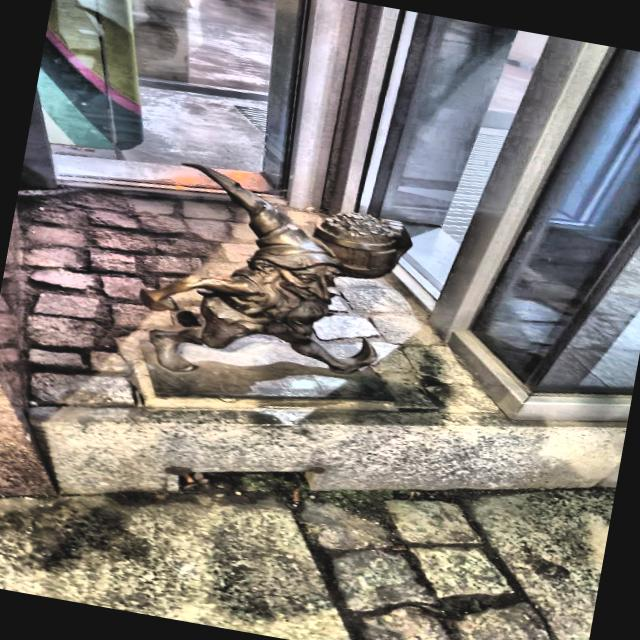Leprykonus: (98, 150, 428, 414)
